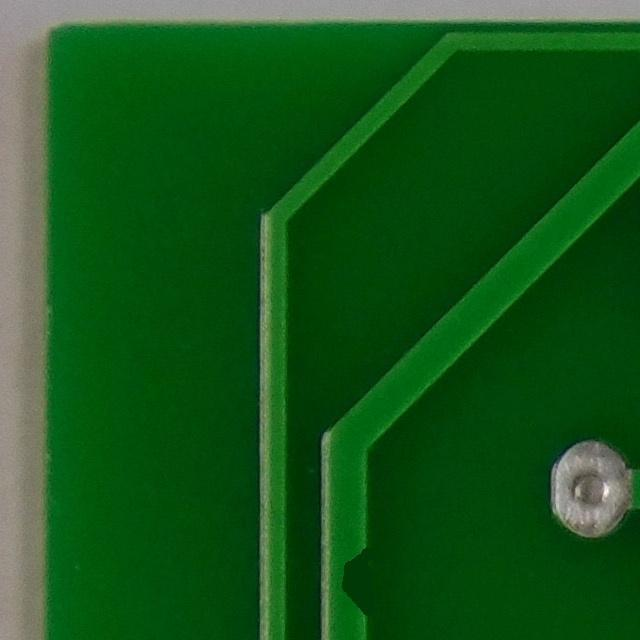mouse_bite: (304, 524, 391, 627)
